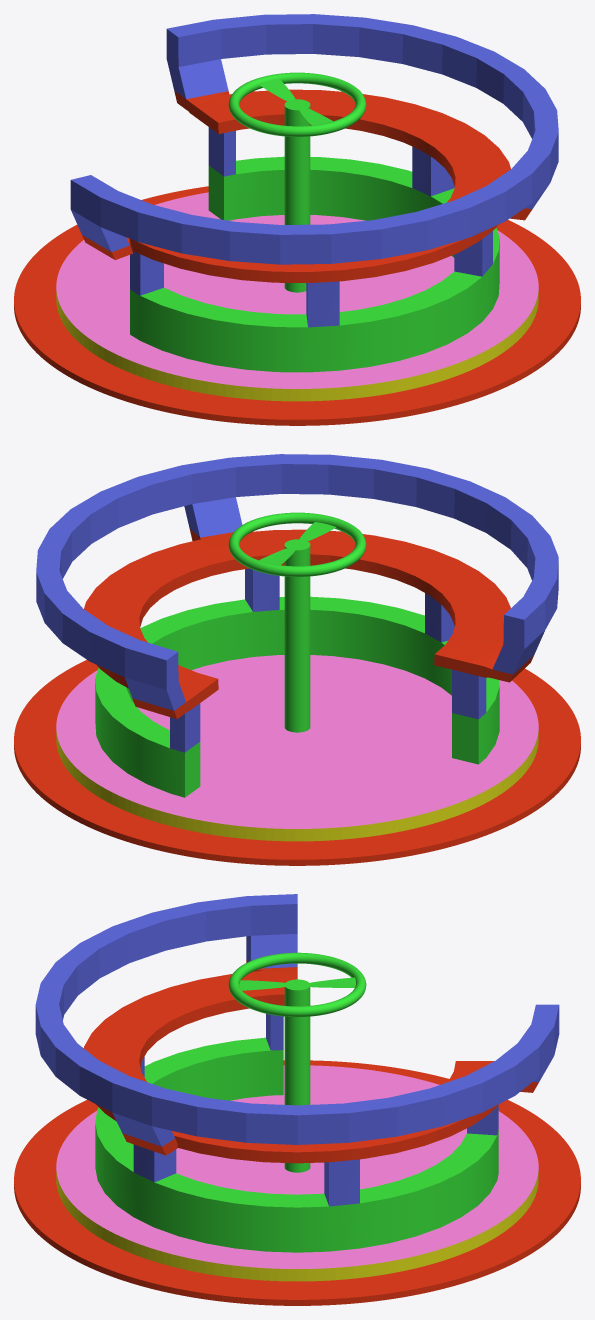
File: Merry Go Round.fbx
The picture shows the model from 3 angles, top to bottom: view 1: azimuth 30°, elevation 25°; view 2: azimuth 150°, elevation 25°; view 3: azimuth 270°, elevation 25°; orthographic projection.
Parts seen in each view (by area): view 1: Cylinder.001, Cylinder, Cylinder.002; view 2: Cylinder.001, Cylinder, Cylinder.002; view 3: Cylinder.001, Cylinder, Cylinder.002.
Part boxes in pixels (<box>): Cylinder.001: <box>70,14,558,372</box>; Cylinder: <box>56,72,538,401</box>; Cylinder.002: <box>14,186,580,425</box>; Cylinder.001: <box>36,454,558,797</box>; Cylinder: <box>56,512,538,841</box>; Cylinder.002: <box>14,660,580,865</box>; Cylinder.001: <box>35,894,559,1252</box>; Cylinder: <box>56,952,538,1281</box>; Cylinder.002: <box>14,1060,580,1305</box>.
Size of the model in its own units: 468 by 188 by 468.
